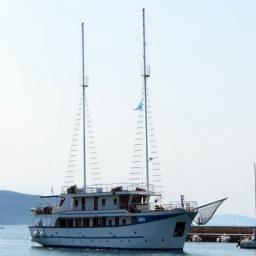cruises: (28, 179, 204, 256)
